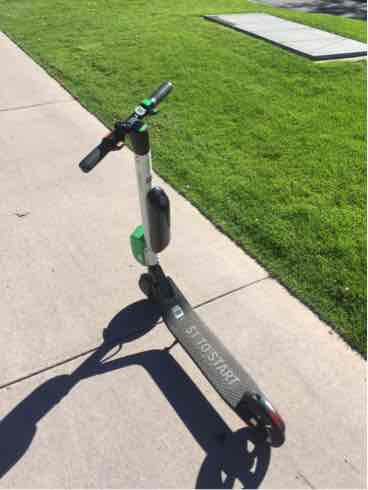scooter: (70, 72, 299, 454)
